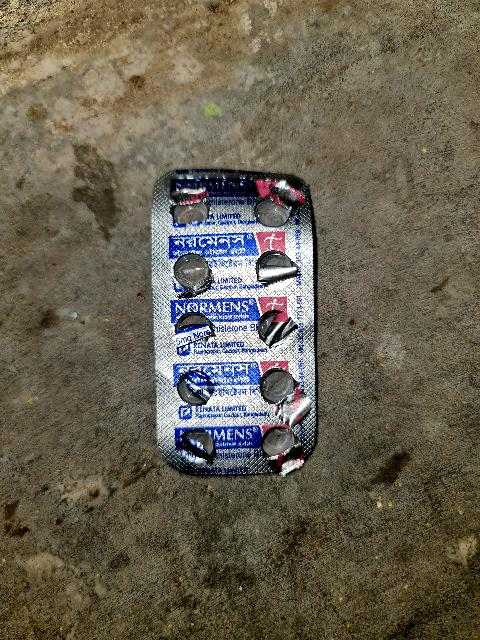medicine: (146, 160, 333, 486)
